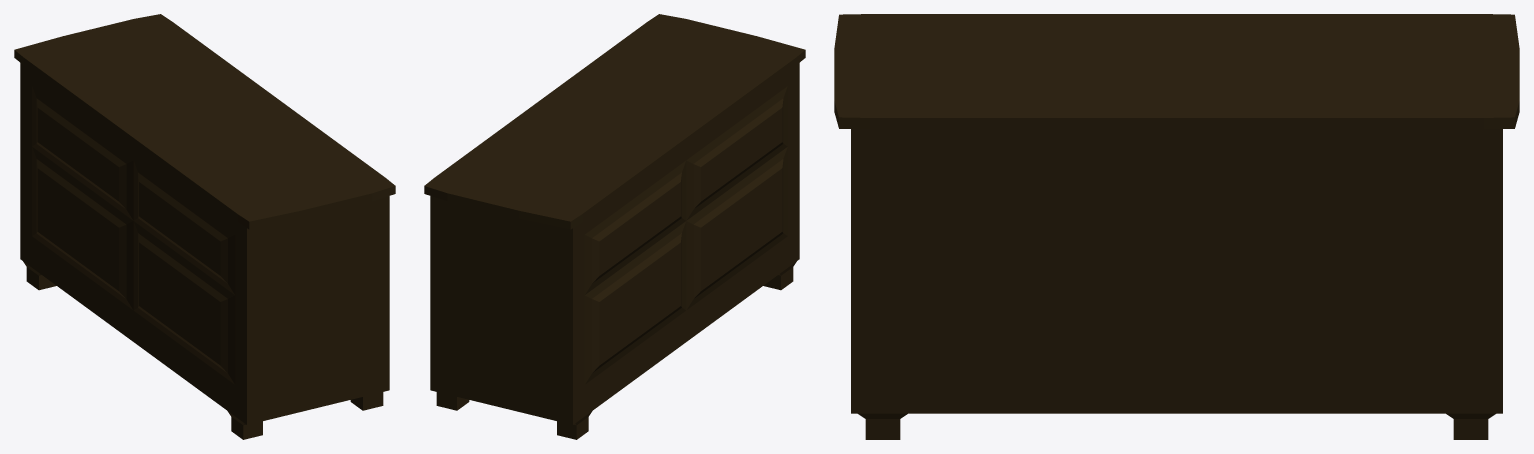
Rendered from M_Dresser01.fbx.
The picture shows the model from 3 angles, left to right: view 1: azimuth 30°, elevation 25°; view 2: azimuth 150°, elevation 25°; view 3: azimuth 270°, elevation 25°; orthographic projection. The views are drawn at different scales.
Visible parts, largest first — view 1: dresserA.003; view 2: dresserA.003; view 3: dresserA.003.
Boxes of the visible parts, <box> form: dresserA.003: <box>14,14,395,439</box>; dresserA.003: <box>424,14,805,439</box>; dresserA.003: <box>834,14,1519,439</box>.
Bounding box in the file's own units: 42.64 × 61.35 × 117.
